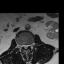CCS_normal: (24, 42, 26, 51)
LFS_normal: (28, 42, 30, 48)
LLS_normal: (26, 42, 28, 49)
RFS_normal: (20, 42, 22, 49)
RLS_normal: (22, 43, 24, 49)
